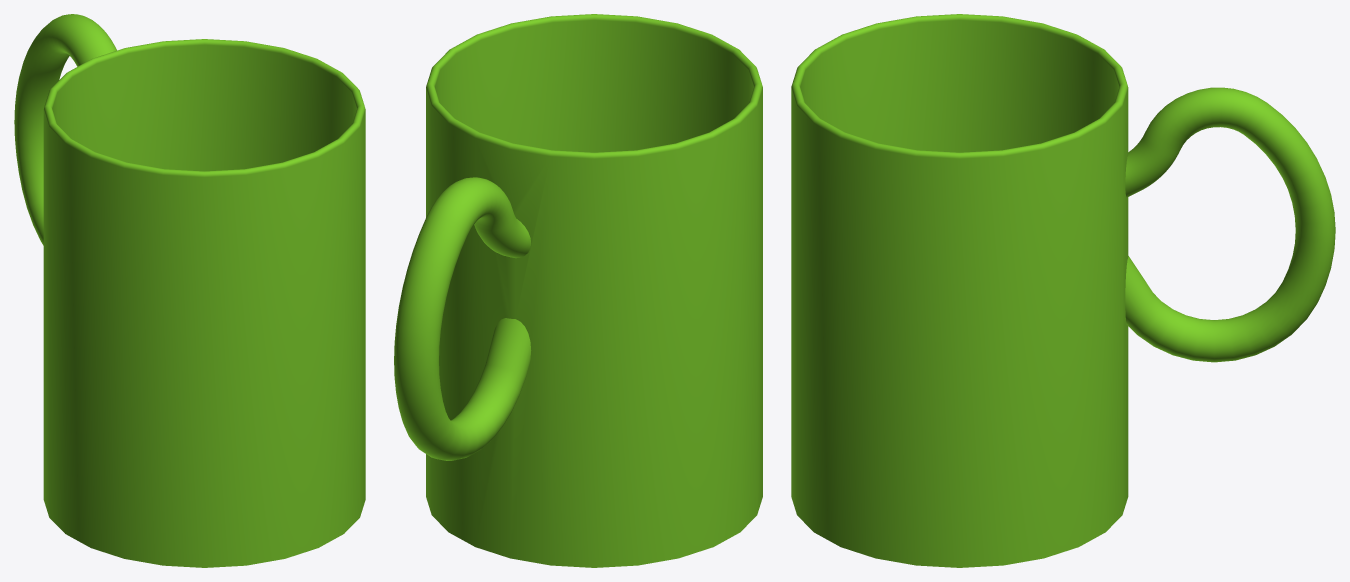
File: mug_02_origin.dae
3 views of the same model, side by side, from view 1: azimuth 30°, elevation 25°; view 2: azimuth 150°, elevation 25°; view 3: azimuth 270°, elevation 25° (orthographic). The views are drawn at different scales.
Parts seen in each view (by area): view 1: SketchUp; view 2: SketchUp; view 3: SketchUp.
Boxes of the visible parts, box(x1,y1,x2,y2) form: SketchUp: box(14, 14, 365, 567); SketchUp: box(394, 14, 762, 567); SketchUp: box(791, 14, 1335, 567).
Bounding box in the file's own units: 4.26 × 6.87 × 5.75.
